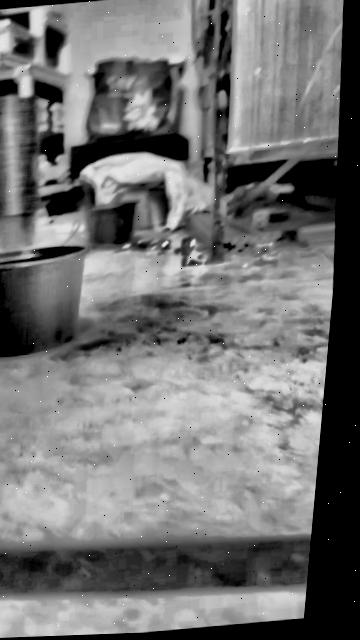pot: (0, 242, 93, 358), (85, 202, 135, 249)
